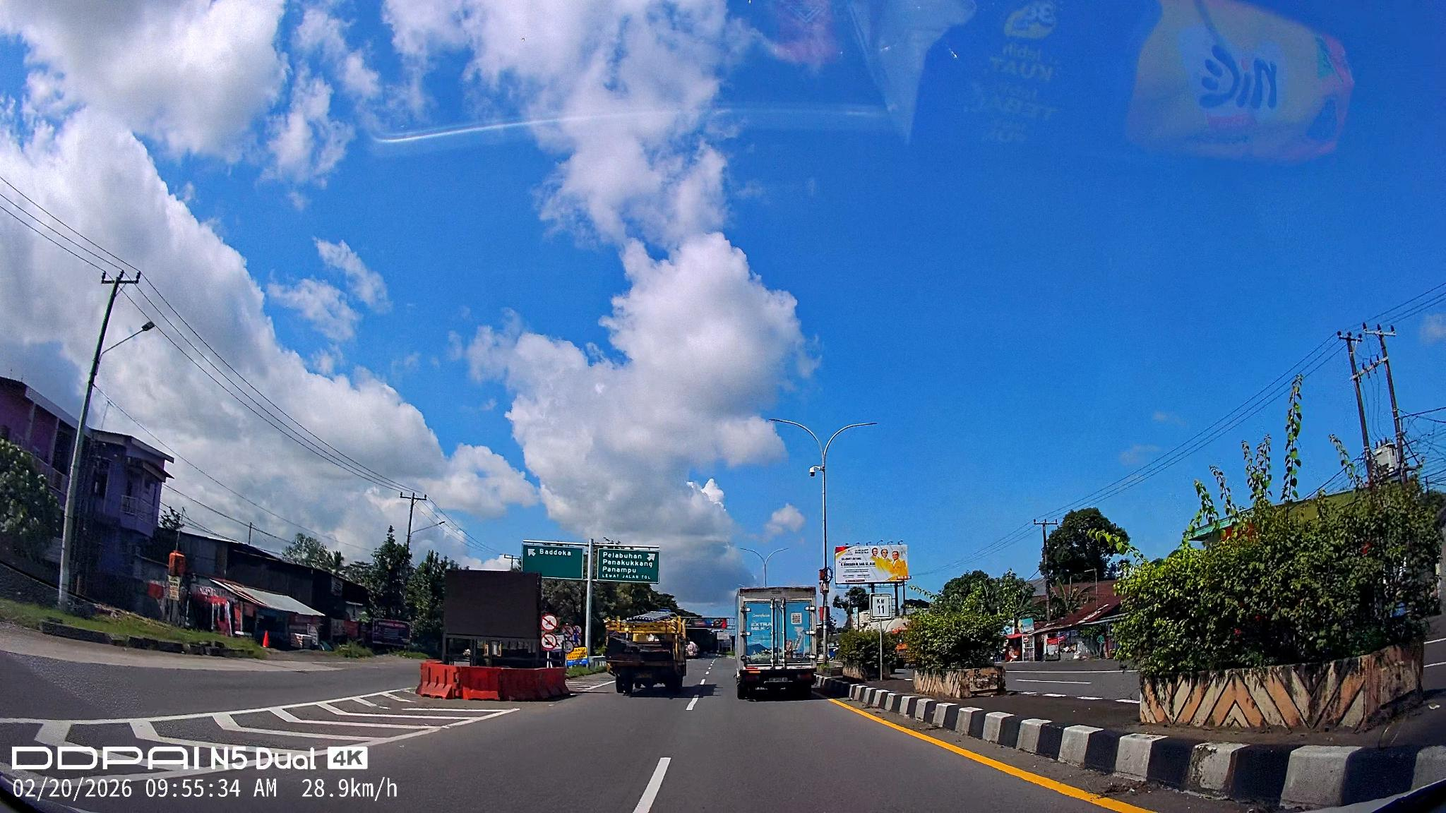rambu_teks: (521, 543, 585, 580), (596, 548, 660, 584)
